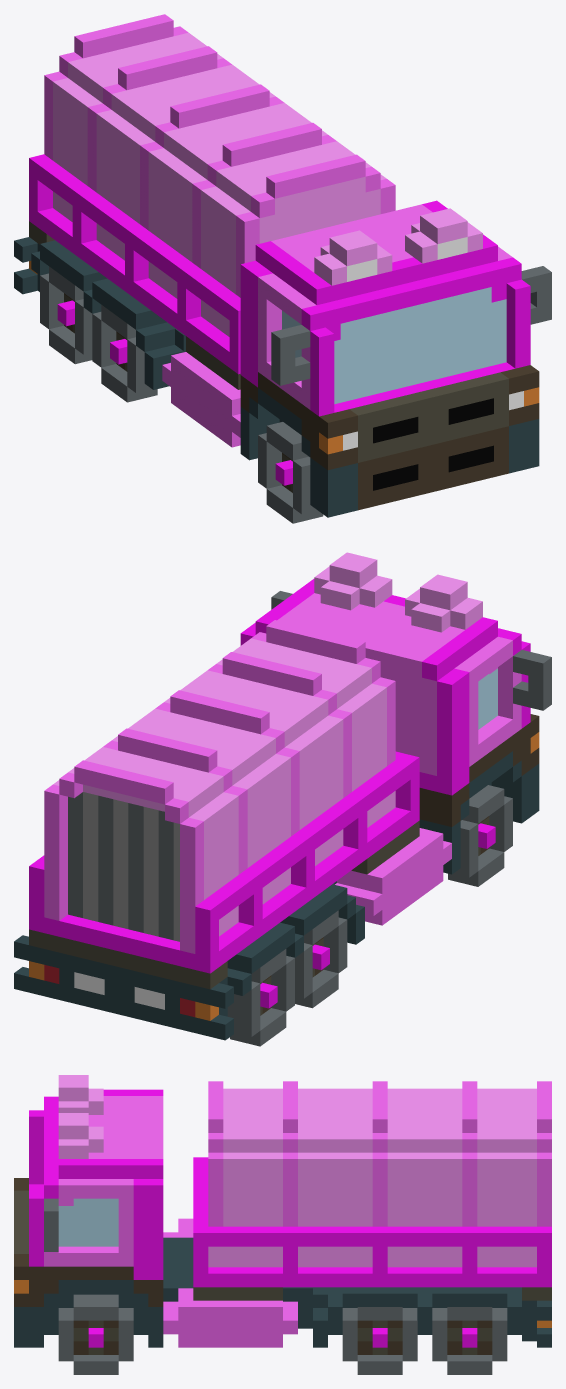
Rendered from truck.obj.
The picture shows the model from 3 angles, top to bottom: view 1: azimuth 30°, elevation 25°; view 2: azimuth 150°, elevation 25°; view 3: azimuth 270°, elevation 25°; orthographic projection. The views are drawn at different scales.
Size of the model in its own units: 1.8 by 1.7 by 3.6.
1 material, 1 textured.
